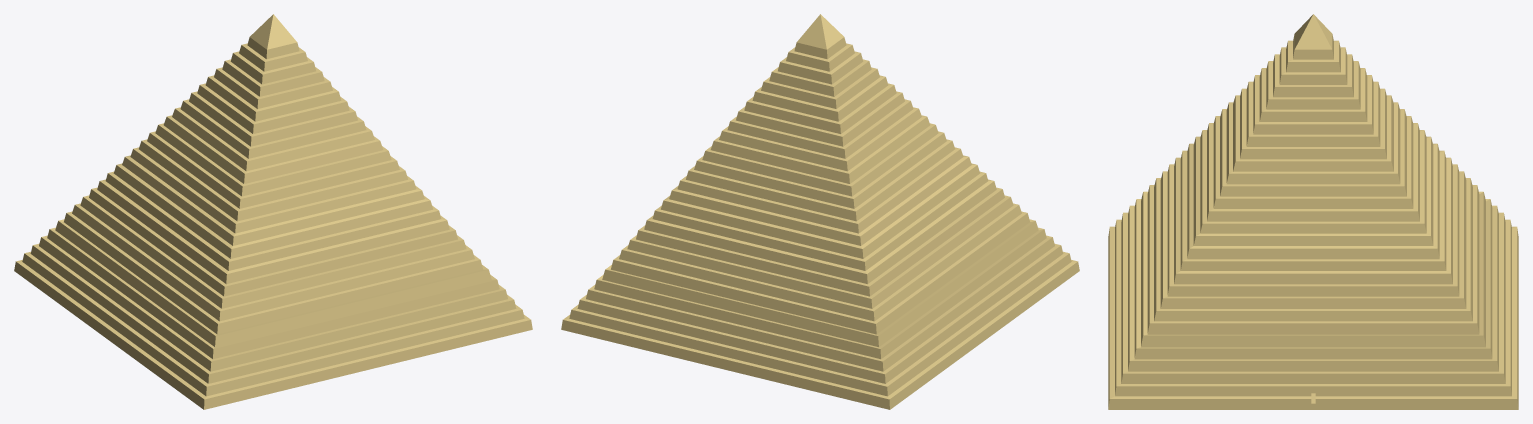
3 views of the same model, side by side, from view 1: azimuth 30°, elevation 25°; view 2: azimuth 150°, elevation 25°; view 3: azimuth 270°, elevation 25° (orthographic). The views are drawn at different scales.
Visible parts, largest first — view 1: Pyramid; view 2: Pyramid; view 3: Pyramid.
Part boxes in pixels (<box>): Pyramid: <box>14,14,532,409</box>; Pyramid: <box>561,14,1079,409</box>; Pyramid: <box>1108,14,1518,409</box>.
Bounding box in the file's own units: 194 × 162 × 194.
